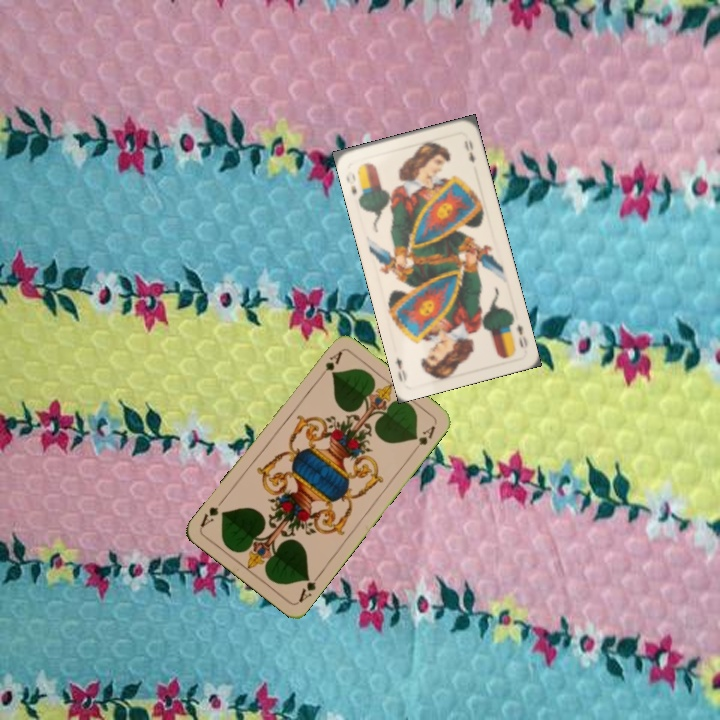EO: (513, 320, 530, 351), (342, 167, 359, 197)
GA: (315, 347, 345, 382), (294, 570, 323, 605)
